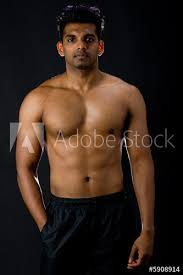Indian_Male: (62, 18, 102, 73)
